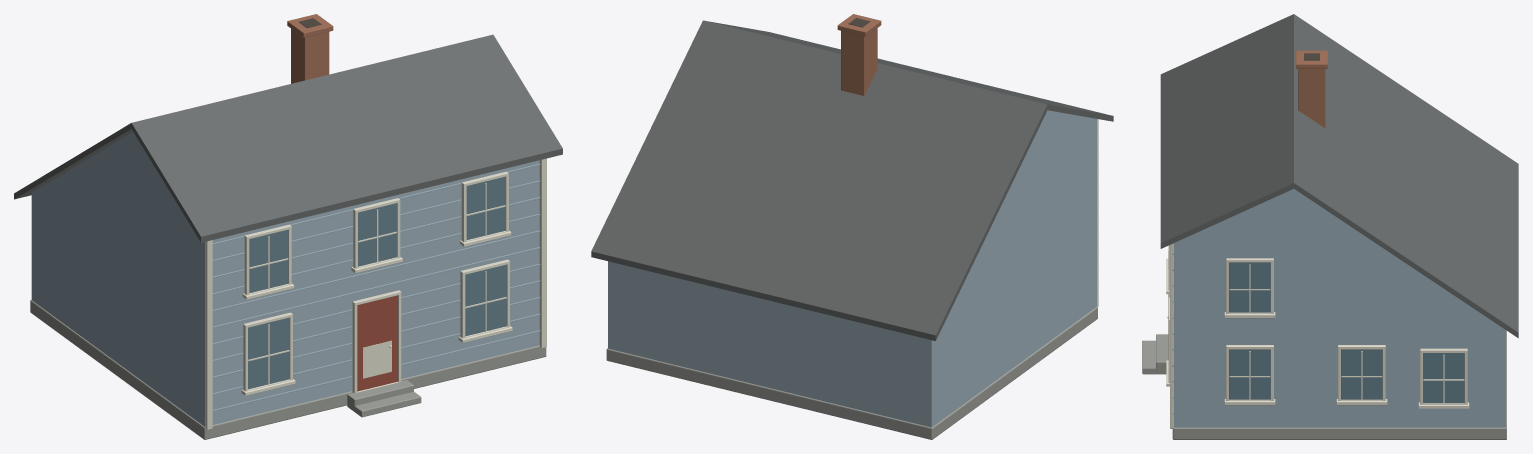
Rendered from medium_saltbox.glb.
3 renders of one model, left to right at view 1: azimuth 30°, elevation 25°; view 2: azimuth 150°, elevation 25°; view 3: azimuth 270°, elevation 25°, orthographic. The views are drawn at different scales.
Visible parts, largest first — view 1: Saltbox asymmetric closed wall volume, Saltbox long rear sloping roof, Saltbox foundation, Saltbox front door inset pane, Saltbox lower sash inset pane, Saltbox lower sash inset pane.001, Saltbox upper sash inset pane, Saltbox upper sash inset pane.002, Saltbox upper sash inset pane.001, Saltbox central chimney shaft, Saltbox front corner board, Saltbox front corner board.001 (+8 smaller); view 2: Saltbox long rear sloping roof, Saltbox asymmetric closed wall volume, Saltbox foundation, Saltbox central chimney shaft, Saltbox central chimney cap; view 3: Saltbox long rear sloping roof, Saltbox asymmetric closed wall volume, Saltbox foundation, Saltbox right-side sash inset pane, Saltbox right-side sash inset pane.001, Saltbox right-side sash inset pane.003, Saltbox right-side sash inset pane.002, Saltbox central chimney shaft, Saltbox front corner board.001, Saltbox central chimney cap, Saltbox entry step 2, Saltbox entry step 1.
Boxes of the visible parts, x1,y1,x2,y2 form: Saltbox asymmetric closed wall volume: (31, 132, 539, 426); Saltbox long rear sloping roof: (14, 34, 562, 242); Saltbox foundation: (30, 300, 546, 439); Saltbox front door inset pane: (357, 295, 397, 391); Saltbox lower sash inset pane: (248, 317, 289, 389); Saltbox lower sash inset pane.001: (465, 264, 506, 336); Saltbox upper sash inset pane: (249, 230, 288, 292); Saltbox upper sash inset pane.002: (466, 176, 505, 239); Saltbox upper sash inset pane.001: (358, 203, 396, 266); Saltbox central chimney shaft: (291, 29, 329, 83); Saltbox front corner board: (205, 240, 212, 429); Saltbox front corner board.001: (539, 158, 546, 348); Saltbox long rear sloping roof: (591, 20, 1113, 340); Saltbox asymmetric closed wall volume: (608, 110, 1096, 427); Saltbox foundation: (606, 306, 1097, 439); Saltbox central chimney shaft: (841, 28, 877, 95); Saltbox central chimney cap: (837, 14, 881, 36); Saltbox long rear sloping roof: (1160, 14, 1518, 338); Saltbox asymmetric closed wall volume: (1174, 189, 1505, 427); Saltbox foundation: (1172, 330, 1506, 439); Saltbox right-side sash inset pane: (1229, 349, 1270, 399); Saltbox right-side sash inset pane.001: (1341, 349, 1382, 399); Saltbox right-side sash inset pane.003: (1229, 262, 1270, 312); Saltbox right-side sash inset pane.002: (1423, 353, 1464, 403); Saltbox central chimney shaft: (1298, 68, 1325, 128); Saltbox front corner board.001: (1170, 243, 1173, 428); Saltbox central chimney cap: (1296, 50, 1327, 68); Saltbox entry step 2: (1156, 334, 1168, 374); Saltbox entry step 1: (1142, 340, 1156, 374).
Size of the model in its own units: 10 by 8.47 by 9.41.
